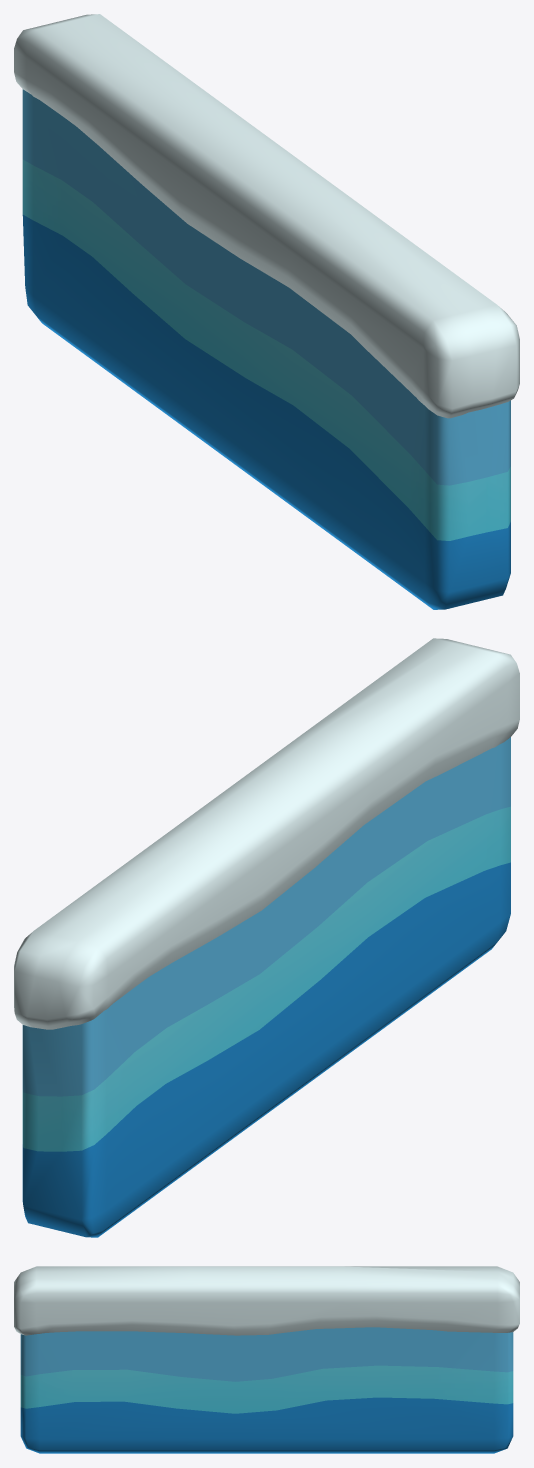
Rendered from ice_wall_005.fbx.
3 views of the same model, one above another, from view 1: azimuth 30°, elevation 25°; view 2: azimuth 150°, elevation 25°; view 3: azimuth 270°, elevation 25° (orthographic). The views are drawn at different scales.
Parts seen in each view (by area): view 1: ice_wall_005; view 2: ice_wall_005; view 3: ice_wall_005.
Boxes of the visible parts, x1,y1,x2,y2 form: ice_wall_005: (14,14,519,609); ice_wall_005: (14,638,519,1237); ice_wall_005: (14,1266,519,1453).
Bounding box in the file's own units: 50 × 447 × 171.
